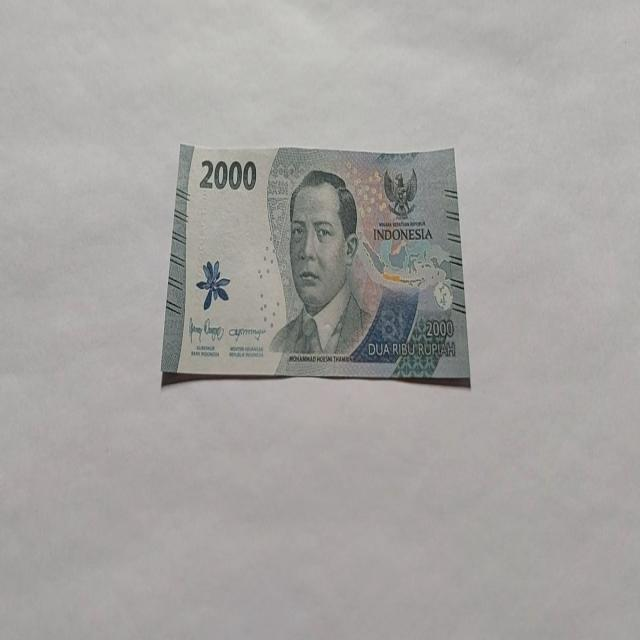dua ribu rupiah: (160, 140, 471, 387), (268, 168, 374, 358)
